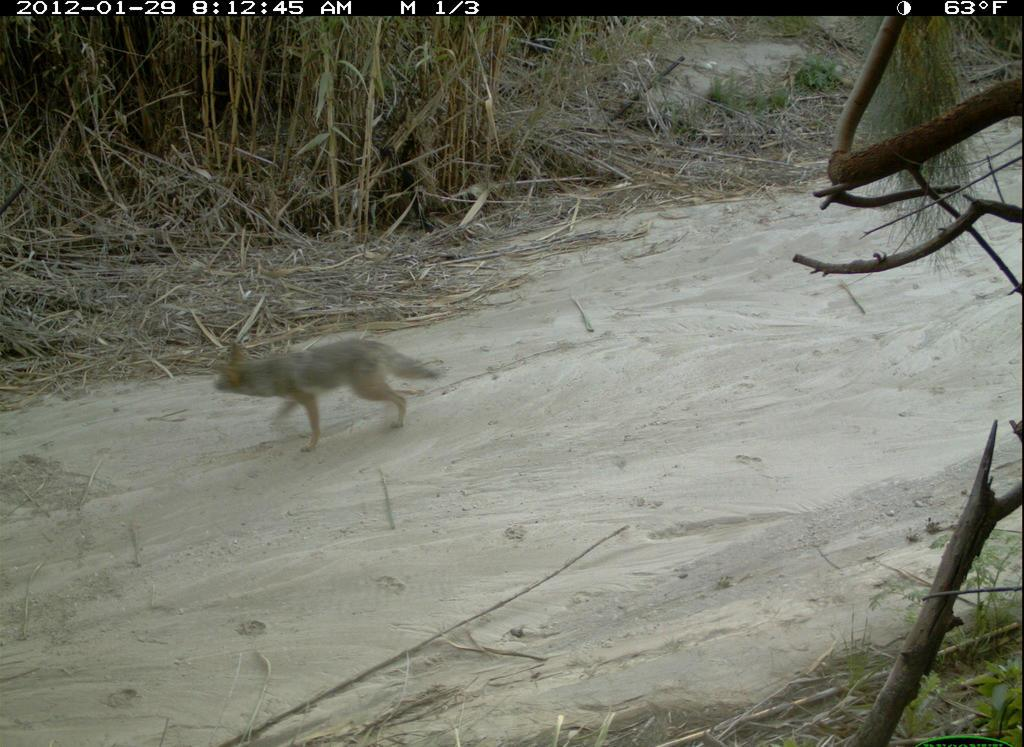coyote: (199, 323, 443, 457)
